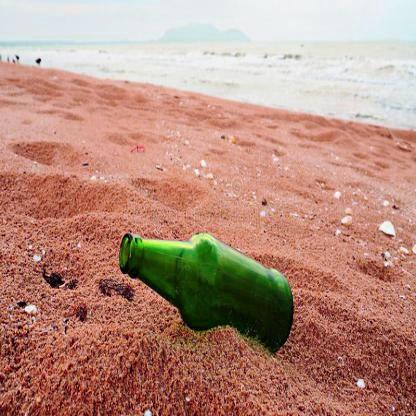Glass: (117, 228, 295, 356)
